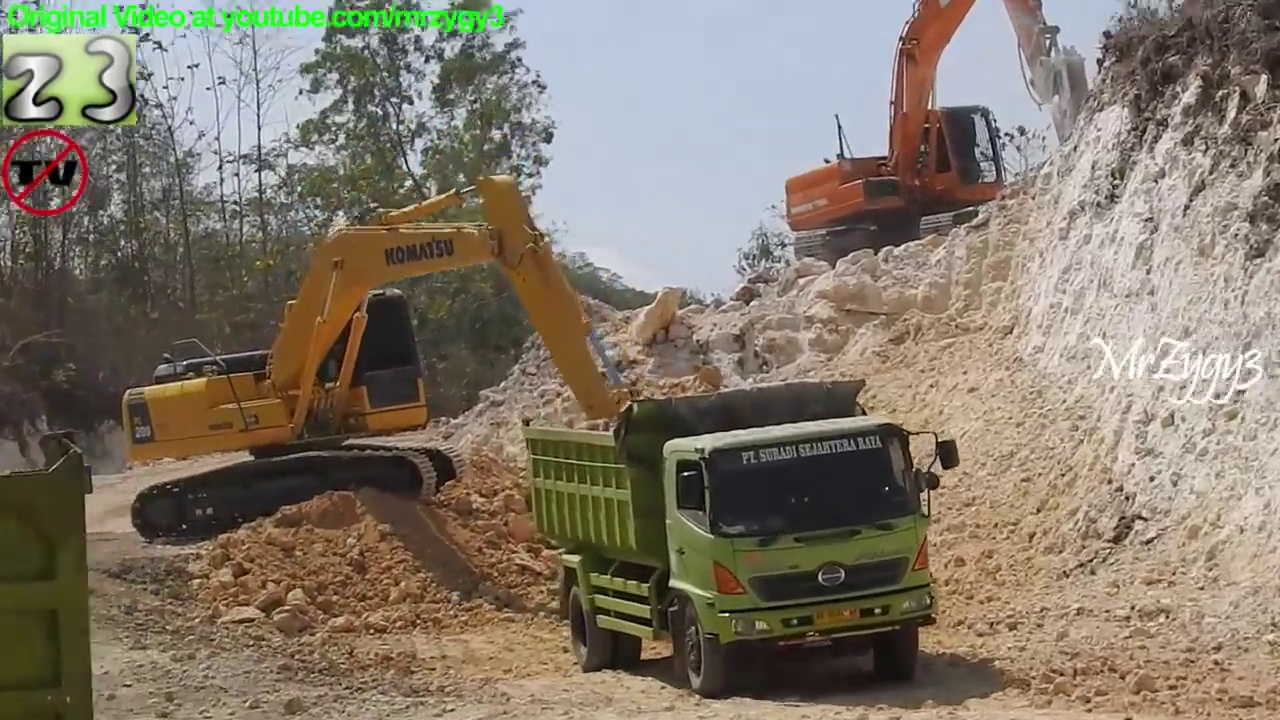excavator: (111, 168, 702, 599), (774, 1, 1099, 275)
truck: (516, 372, 968, 702), (1, 426, 103, 720)
